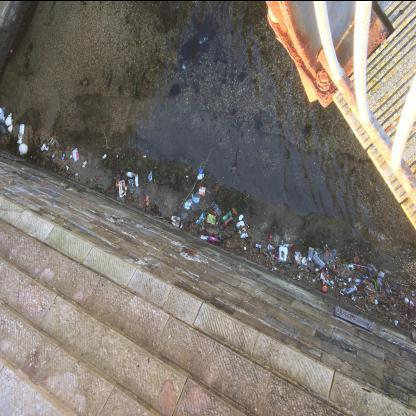cam: (308, 247, 316, 262)
metal: (346, 286, 358, 297), (358, 266, 361, 270)
plastik: (314, 254, 329, 270), (221, 211, 233, 223), (209, 236, 221, 244), (116, 174, 122, 190), (116, 197, 126, 203)
